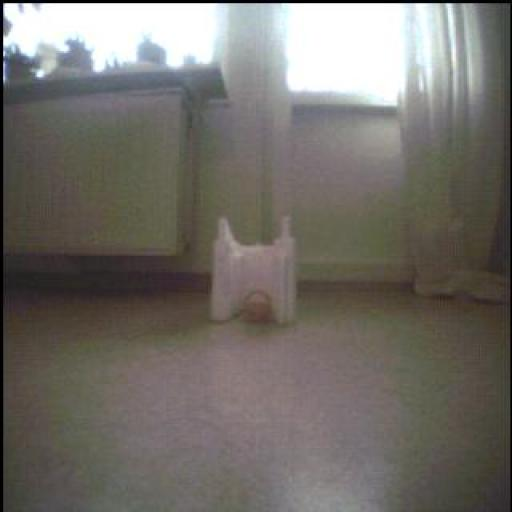Basket: (244, 288, 275, 323)
